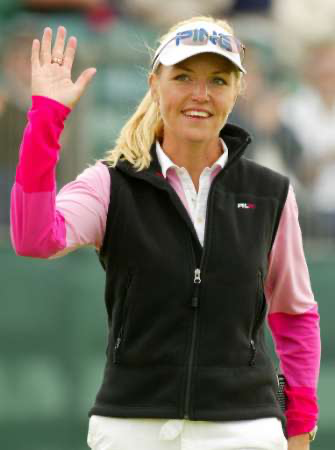Face: (153, 60, 236, 140)
